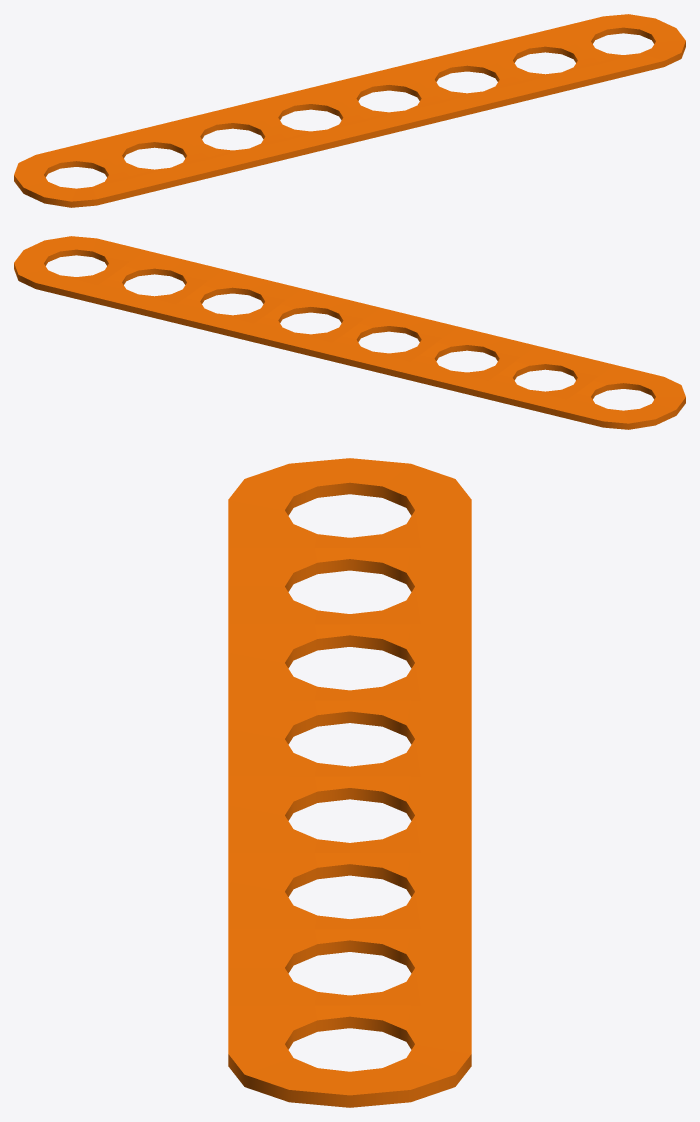
The model's file is EightLongYellow.fbx.
3 renders of one model, top to bottom at view 1: azimuth 30°, elevation 25°; view 2: azimuth 150°, elevation 25°; view 3: azimuth 270°, elevation 25°, orthographic. The views are drawn at different scales.
Visible parts, largest first — view 1: Blue8; view 2: Blue8; view 3: Blue8.
Boxes of the visible parts, <box> form: Blue8: <box>14,14,685,207</box>; Blue8: <box>14,236,685,429</box>; Blue8: <box>228,458,471,1107</box>.
Bounding box in the file's own units: 21.36 × 0.1942 × 3.45.
